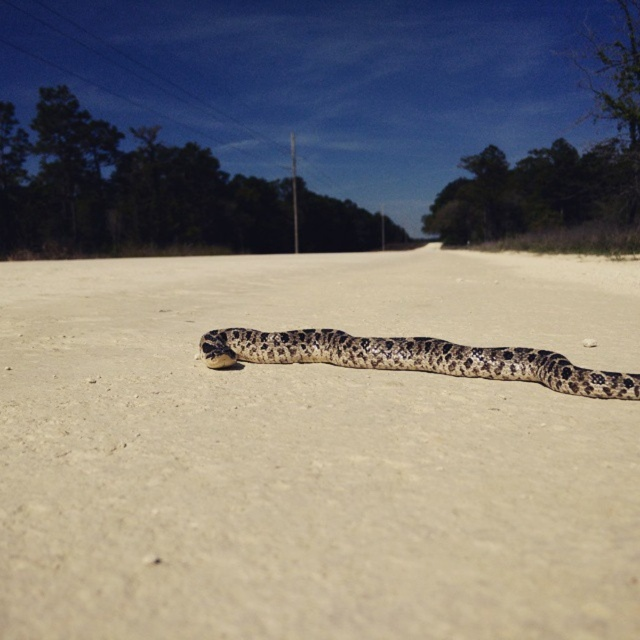Snake: (195, 321, 639, 402)
